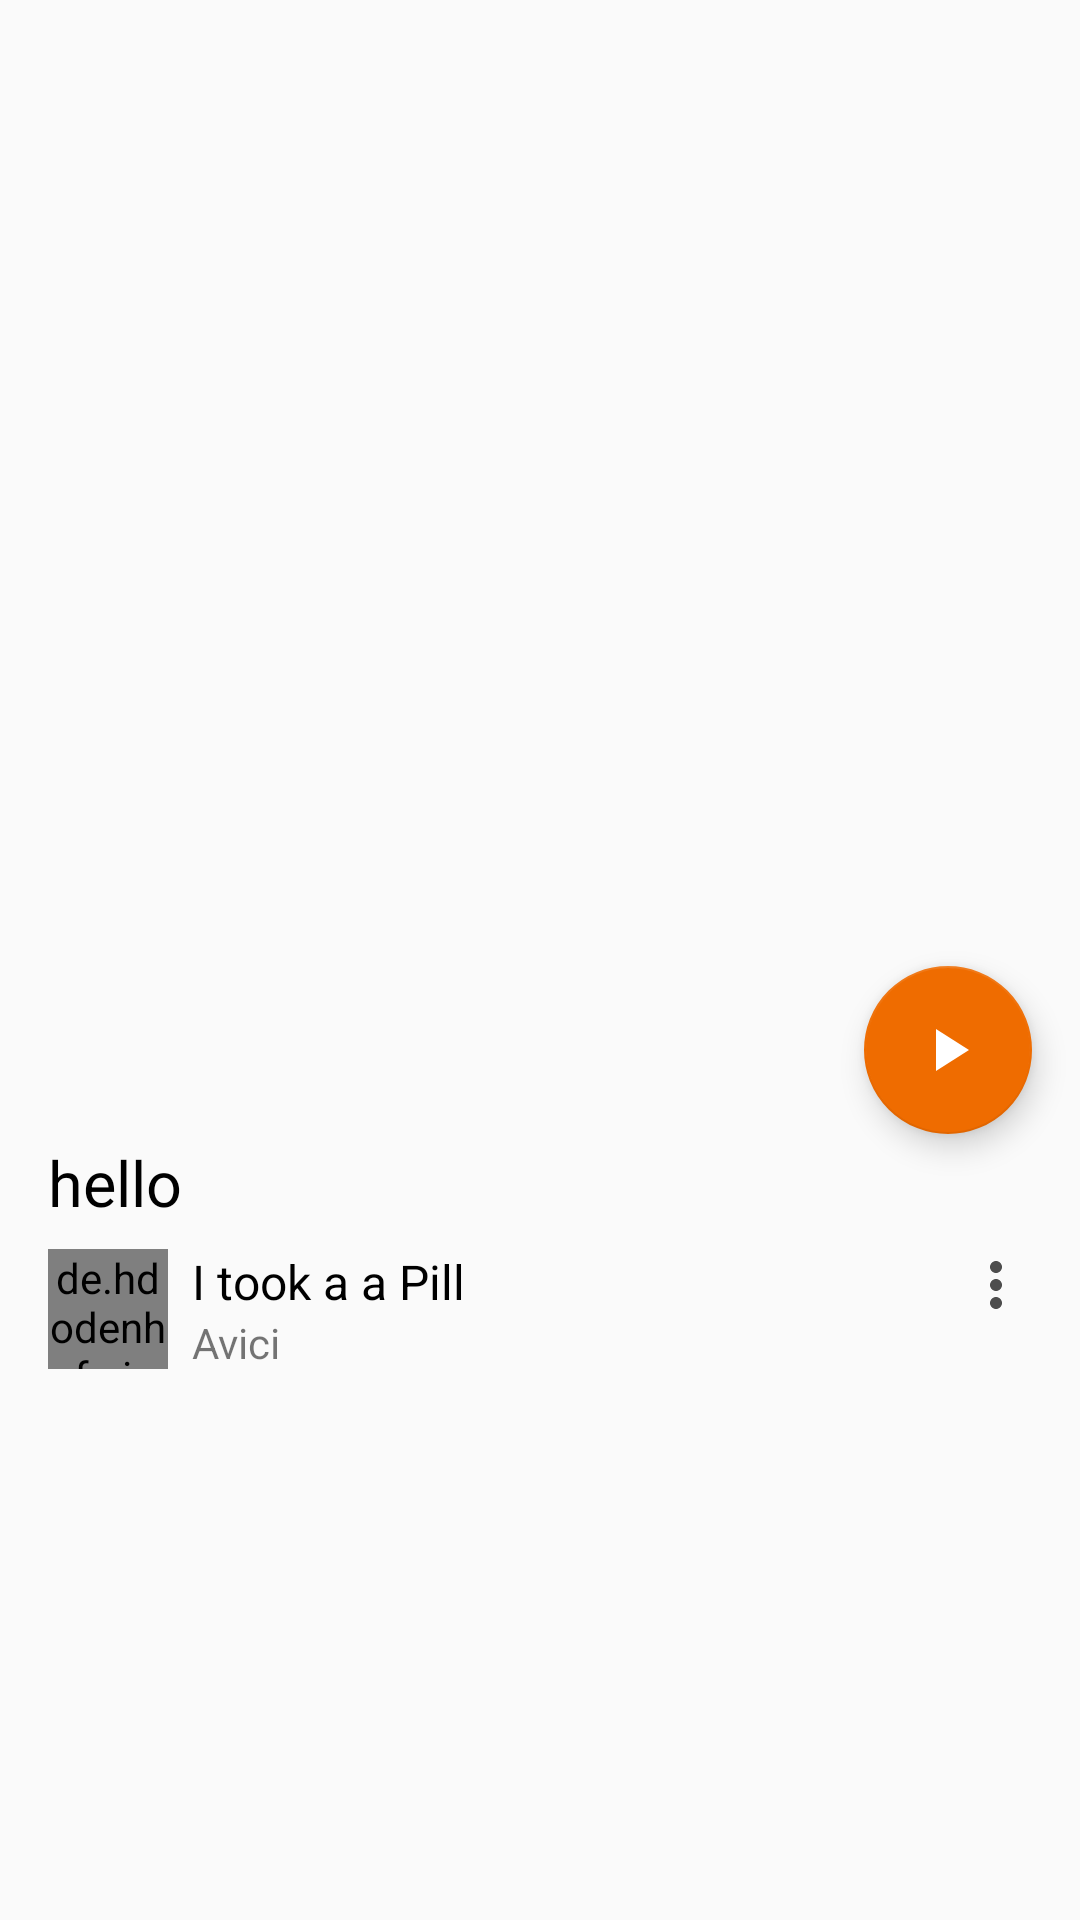

Icons on this 1080w x 1920h Android screen, each with the point to tap as (x=x, y=y):
more vert: (x=996, y=1285)
play arrow: (x=948, y=1050)
